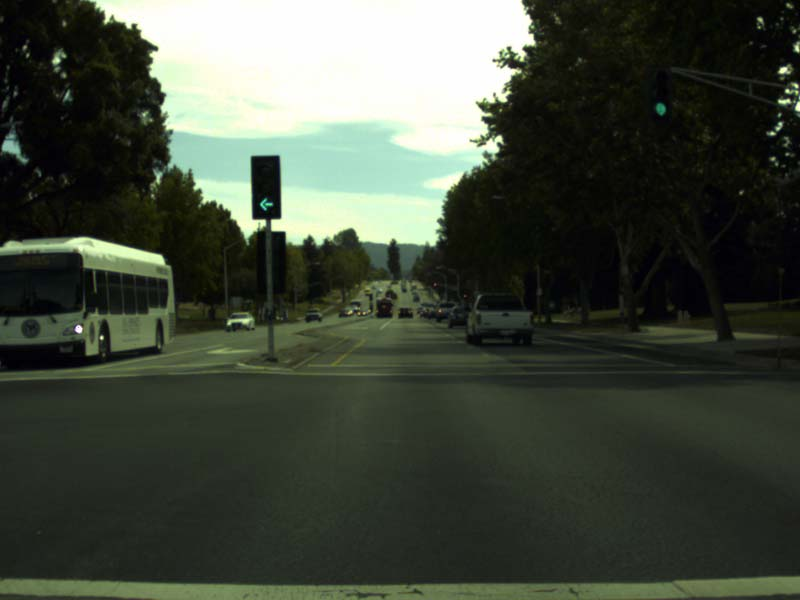Green: (251, 156, 280, 218), (651, 69, 669, 121)
Yellow: (432, 282, 437, 287), (462, 293, 467, 297)
